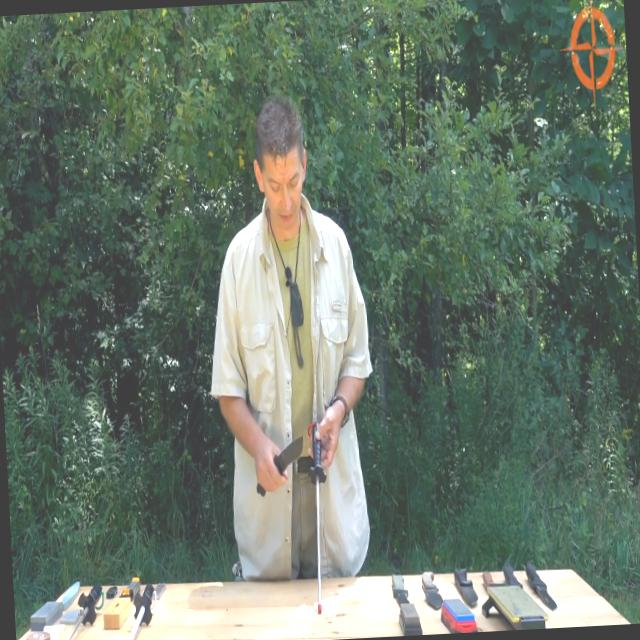knife: (252, 431, 308, 498)
